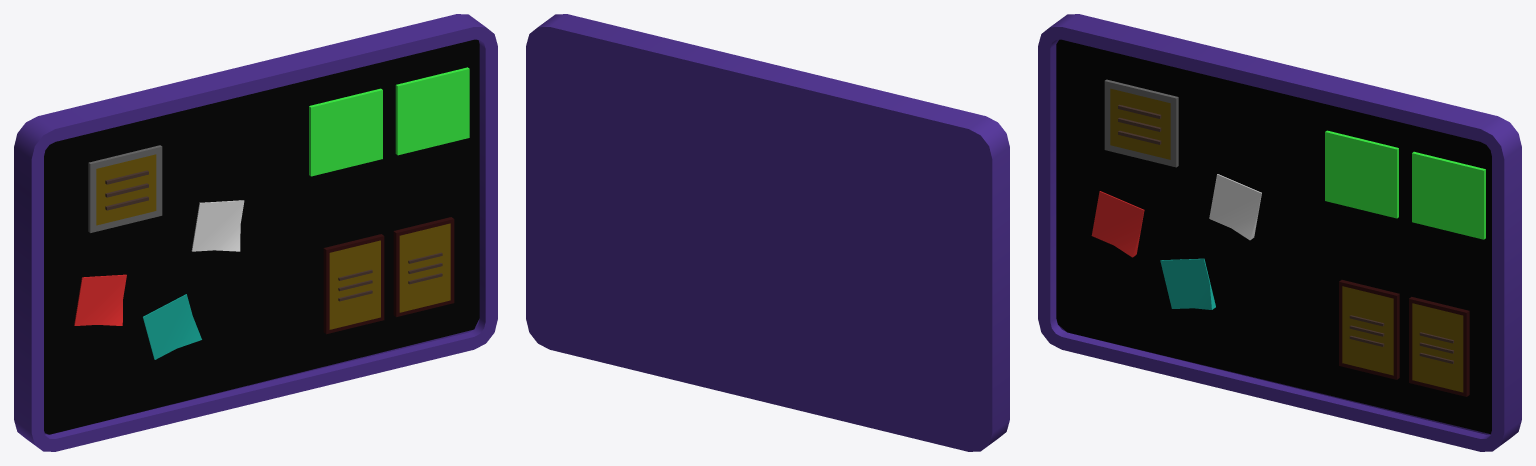
The model's file is corkboard1.fbx.
The picture shows the model from 3 angles, left to right: view 1: azimuth 30°, elevation 25°; view 2: azimuth 150°, elevation 25°; view 3: azimuth 330°, elevation 25°; orthographic projection.
Visible parts, largest first — view 1: corkboard1; view 2: corkboard1; view 3: corkboard1.
Part boxes in pixels (left/top/right/bottom): corkboard1: left=14, top=14, right=497, bottom=451; corkboard1: left=526, top=14, right=1009, bottom=451; corkboard1: left=1038, top=14, right=1521, bottom=451.
Size of the model in its own units: 83.48 by 55.24 by 5.44.
